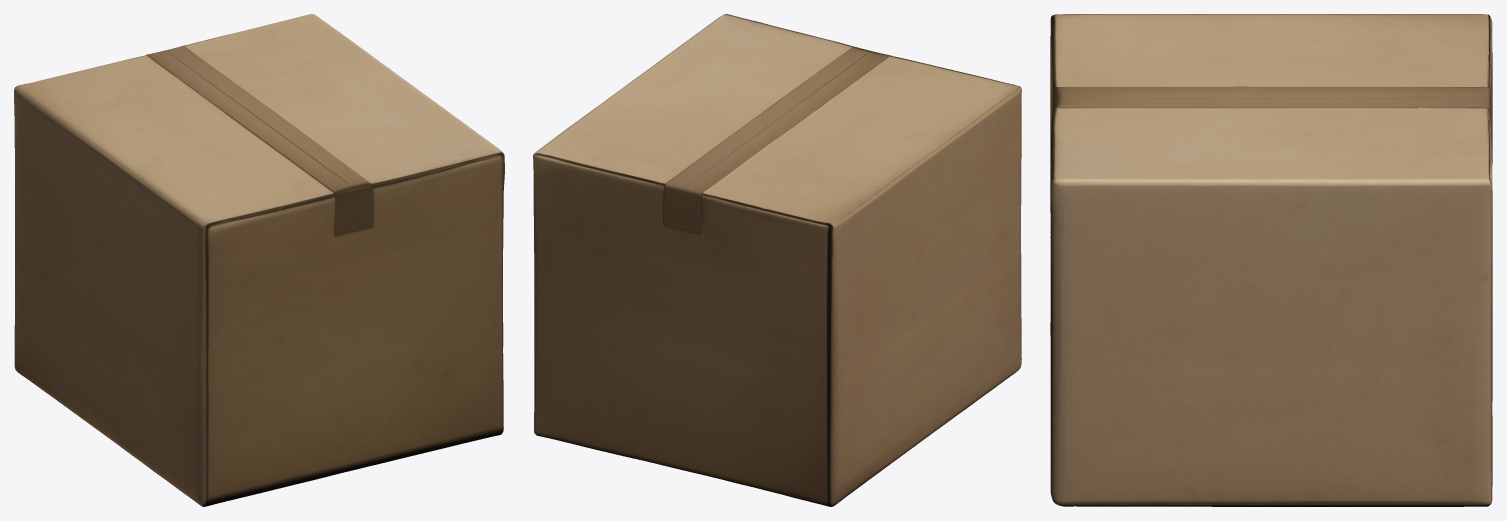
The picture shows the model from 3 angles, left to right: view 1: azimuth 30°, elevation 25°; view 2: azimuth 150°, elevation 25°; view 3: azimuth 270°, elevation 25°; orthographic projection. The views are drawn at different scales.
Parts seen in each view (by area): view 1: geometry_0; view 2: geometry_0; view 3: geometry_0.
Boxes of the visible parts, x1,y1,x2,y2 form: geometry_0: (14, 14, 504, 506); geometry_0: (533, 14, 1021, 506); geometry_0: (1050, 14, 1492, 506).
Bounding box in the file's own units: 0.9154 × 0.8195 × 0.9999.
Materials: 1 (1 with a texture image).
